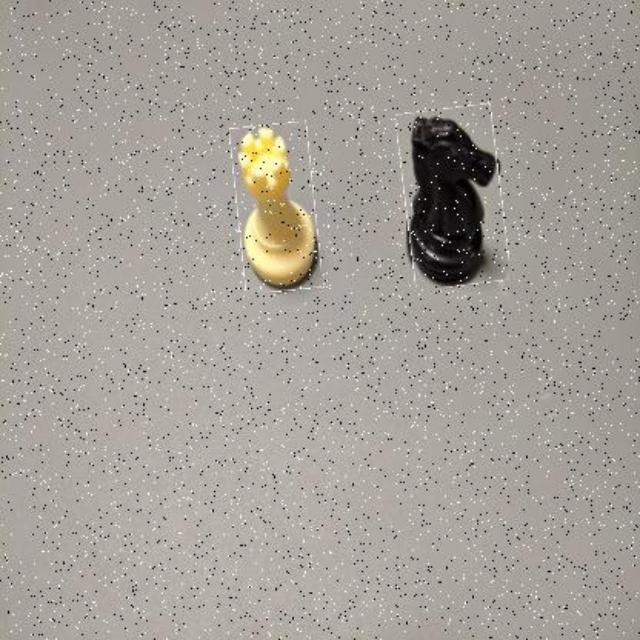black-knight: (400, 106, 506, 286)
white-rook: (235, 123, 319, 292)
